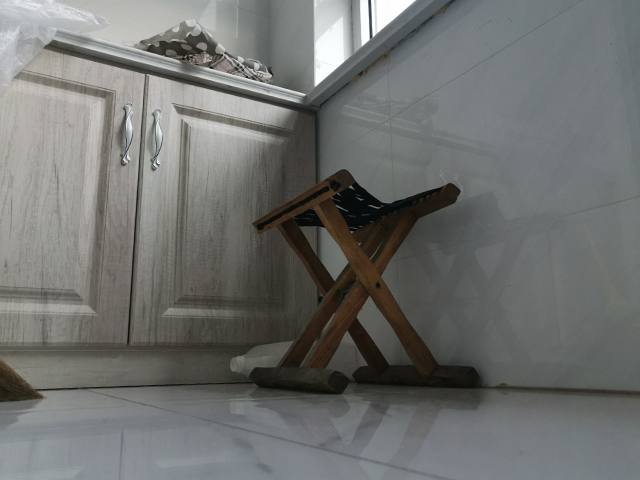cabinet: (1, 27, 322, 391)
stool: (247, 168, 483, 396)
